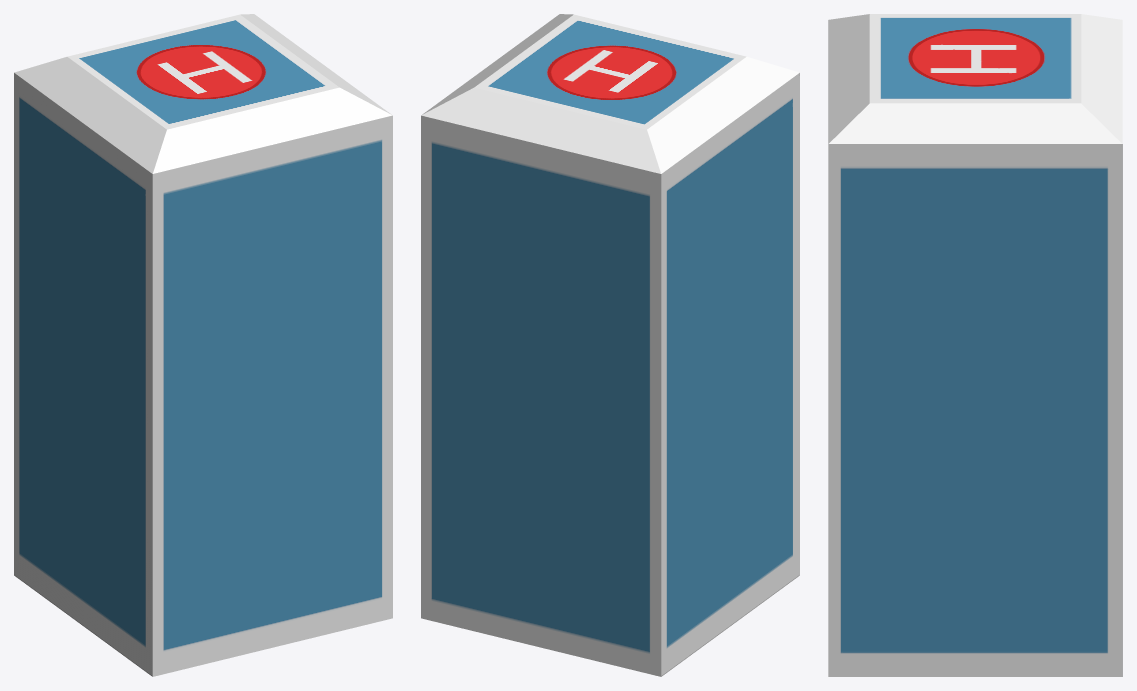
The model's file is building set 2_13.fbx.
3 views of the same model, side by side, from view 1: azimuth 30°, elevation 25°; view 2: azimuth 150°, elevation 25°; view 3: azimuth 270°, elevation 25° (orthographic). The views are drawn at different scales.
Visible parts, largest first — view 1: pCube14; view 2: pCube14; view 3: pCube14.
Part boxes in pixels (x1,y1,x2,y2): pCube14: (14, 14, 392, 676); pCube14: (421, 14, 799, 676); pCube14: (828, 14, 1122, 676).
Bounding box in the file's own units: 4.5 × 9.39 × 4.5.
